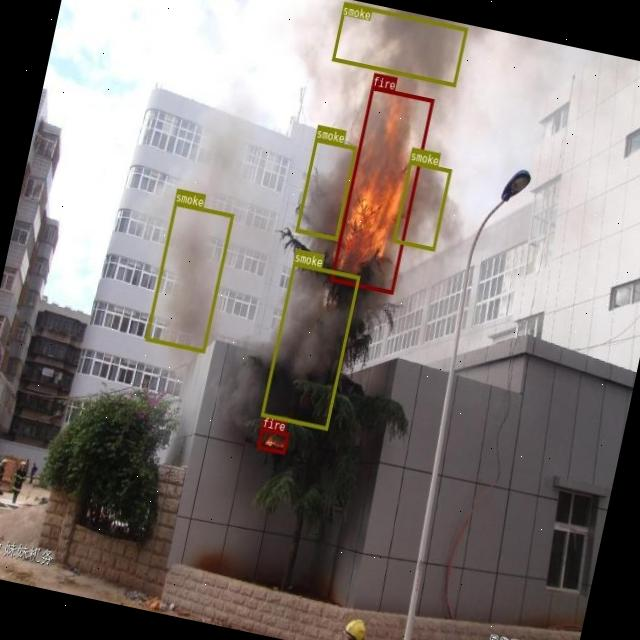fire: (329, 84, 434, 294), (256, 426, 288, 453)
smoke: (260, 261, 359, 429), (144, 201, 233, 352), (331, 1, 467, 86), (295, 137, 356, 240), (392, 159, 452, 250)
